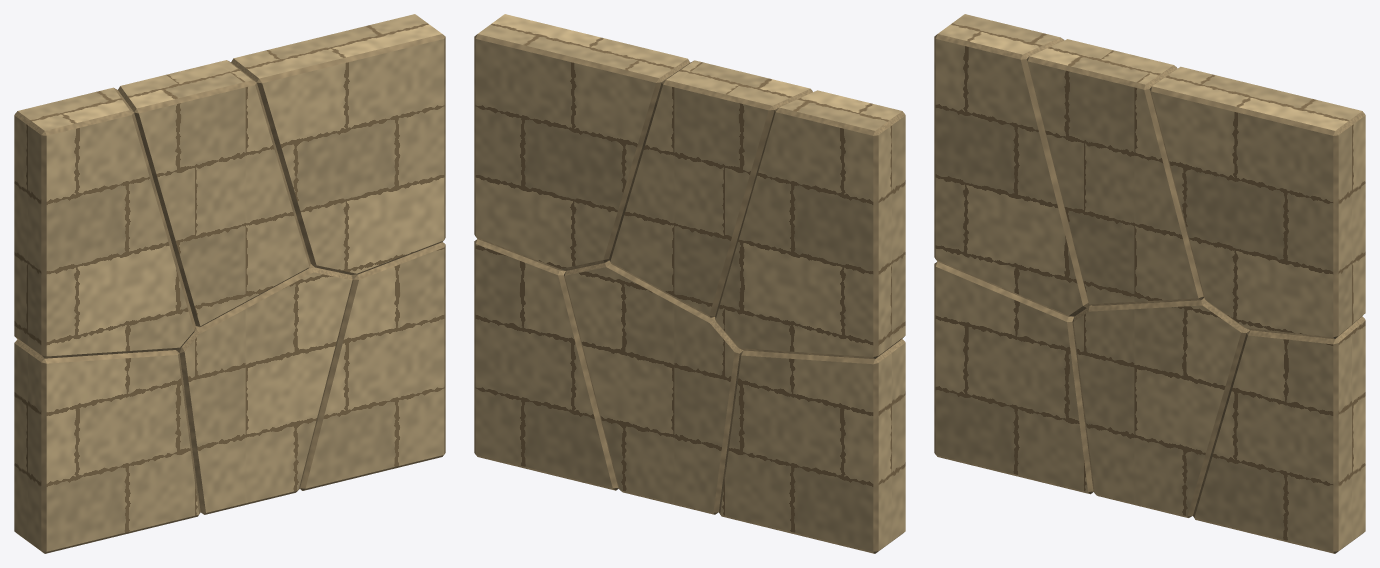
Rendered from Kit_Stone_Wall_Fractured.glb.
3 views of the same model, side by side, from view 1: azimuth 30°, elevation 25°; view 2: azimuth 150°, elevation 25°; view 3: azimuth 330°, elevation 25° (orthographic).
Parts seen in each view (by area): view 1: Kit_Stone_Wall_frag_06, Kit_Stone_Wall_frag_02, Kit_Stone_Wall_frag_01, Kit_Stone_Wall_frag_04, Kit_Stone_Wall_frag_03, Kit_Stone_Wall_frag_05; view 2: Kit_Stone_Wall_frag_02, Kit_Stone_Wall_frag_06, Kit_Stone_Wall_frag_01, Kit_Stone_Wall_frag_03, Kit_Stone_Wall_frag_04, Kit_Stone_Wall_frag_05; view 3: Kit_Stone_Wall_frag_06, Kit_Stone_Wall_frag_02, Kit_Stone_Wall_frag_05, Kit_Stone_Wall_frag_04, Kit_Stone_Wall_frag_03, Kit_Stone_Wall_frag_01.
Part boxes in pixels (x1,y1,x2,y2): Kit_Stone_Wall_frag_06: (231,14,445,274); Kit_Stone_Wall_frag_02: (14,87,195,358); Kit_Stone_Wall_frag_01: (14,339,200,553); Kit_Stone_Wall_frag_04: (118,60,310,327); Kit_Stone_Wall_frag_03: (176,264,353,514); Kit_Stone_Wall_frag_05: (300,242,445,490); Kit_Stone_Wall_frag_02: (715,90,905,359); Kit_Stone_Wall_frag_06: (474,14,689,270); Kit_Stone_Wall_frag_01: (719,339,905,553); Kit_Stone_Wall_frag_03: (564,260,743,514); Kit_Stone_Wall_frag_04: (609,60,812,317); Kit_Stone_Wall_frag_05: (474,239,618,490); Kit_Stone_Wall_frag_06: (1149,66,1365,339); Kit_Stone_Wall_frag_02: (934,14,1090,316); Kit_Stone_Wall_frag_05: (1193,316,1365,553); Kit_Stone_Wall_frag_04: (1027,39,1203,305); Kit_Stone_Wall_frag_03: (1072,298,1249,517); Kit_Stone_Wall_frag_01: (934,261,1093,494).
Size of what is drawn, in the model's own units: 3 by 3 by 0.4.
Materials: 2 (2 with a texture image).
